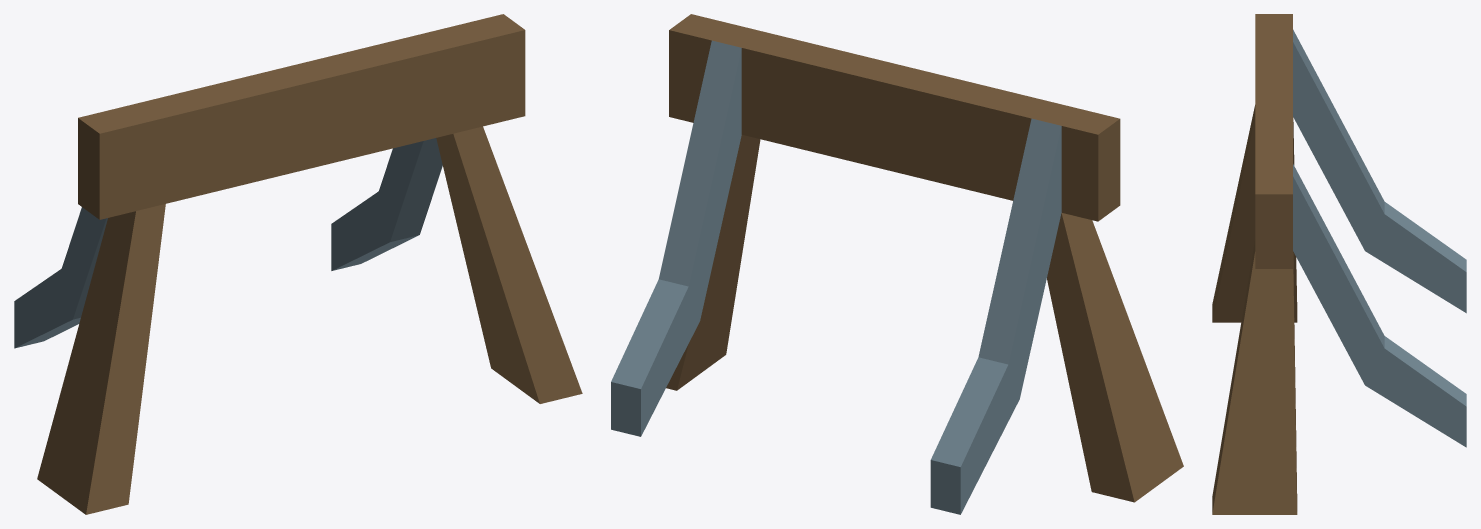
Rendered from RailStopper-01.fbx.
3 renders of one model, left to right at view 1: azimuth 30°, elevation 25°; view 2: azimuth 150°, elevation 25°; view 3: azimuth 270°, elevation 25°, orthographic. The views are drawn at different scales.
Visible parts, largest first — view 1: RailStopper-01; view 2: RailStopper-01; view 3: RailStopper-01.
Part boxes in pixels (x1=…): RailStopper-01: x1=14, y1=14, x2=582, y2=514; RailStopper-01: x1=611, y1=14, x2=1183, y2=514; RailStopper-01: x1=1212, y1=14, x2=1466, y2=514.
Size of the model in its own units: 199 by 135 by 102.
